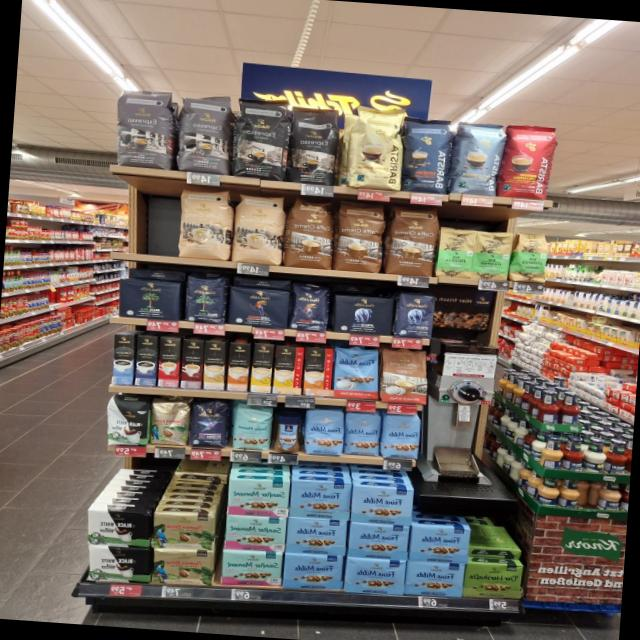AB Bohne: (394, 291, 436, 340)
AB Gemahlen: (330, 293, 394, 336)
Athiopien Bohne: (509, 228, 551, 282)
Athiopien Gemahlen: (472, 229, 514, 281), (435, 226, 476, 279)
BM Bohne: (182, 272, 226, 324)
BM Gemahlen: (116, 278, 182, 322)
BW Bohne: (103, 395, 150, 448)
BW Gemahlen: (83, 505, 153, 550), (85, 544, 153, 584)
Barista CB: (346, 104, 406, 191)
Barista CC: (448, 119, 505, 196)
Barista Espresso: (398, 115, 454, 194)
Barista Kolumbien: (499, 121, 559, 201)
C Fino Bohne: (187, 398, 229, 450)
CC Mild: (176, 186, 233, 260), (230, 192, 287, 266)
CC Vollmundig: (379, 347, 429, 405)
CC Vollmundig 36 Pads: (282, 192, 337, 269), (333, 198, 388, 272), (384, 205, 439, 278)
Colombia BB Bohne: (147, 398, 190, 448)
Colombia BB Gemahlen: (150, 509, 217, 552), (150, 546, 216, 588)
Empty Shelf: (108, 182, 179, 255)
Espresso Aromatisch: (112, 84, 174, 168), (174, 89, 232, 175)
Espresso Kraftig: (229, 95, 291, 180), (286, 104, 340, 185)
FM 36 Pads: (332, 346, 380, 400)
FM Bohne: (304, 406, 346, 456), (380, 413, 422, 461), (342, 410, 380, 458)
FM Gemahlen: (407, 522, 471, 566), (349, 484, 415, 526), (288, 477, 352, 520), (284, 514, 348, 556), (342, 557, 407, 596), (346, 521, 408, 561), (282, 552, 342, 592), (404, 560, 464, 598)
FM Instant: (272, 412, 302, 454)
Herzhatfe Mundig: (464, 559, 524, 601)
LG Bohne: (289, 282, 330, 332)
LG Gemahlen: (226, 286, 290, 330)
SM Bohne: (230, 404, 275, 452)
SM Gemahlen: (225, 475, 291, 518), (219, 548, 283, 588), (222, 514, 286, 552)
Simo CCMild: (272, 346, 304, 394)
Simo CCMild bigpack: (250, 342, 274, 392)
Simo CCVollmundig: (303, 346, 333, 396)
Simo CCVollmundig bigpack: (226, 342, 250, 392)
Simo Decaff: (202, 340, 226, 390)
Simo Es Brazil: (157, 337, 181, 388)
Simo Es Caramel: (179, 338, 203, 388)
Simo Es Kraft: (134, 334, 158, 386)
Simo Es Vanilla: (112, 333, 134, 384)
